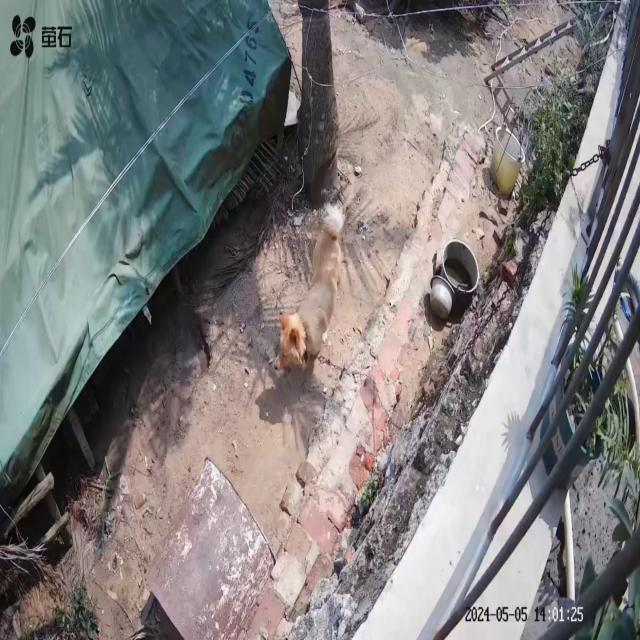dog: (274, 203, 345, 375)
